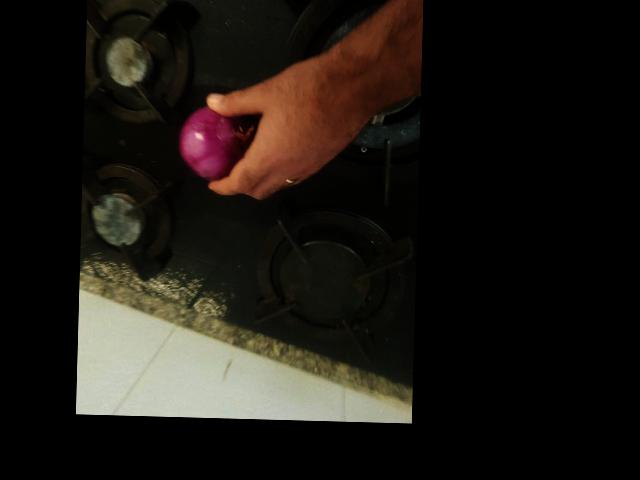onion: (176, 99, 253, 179)
